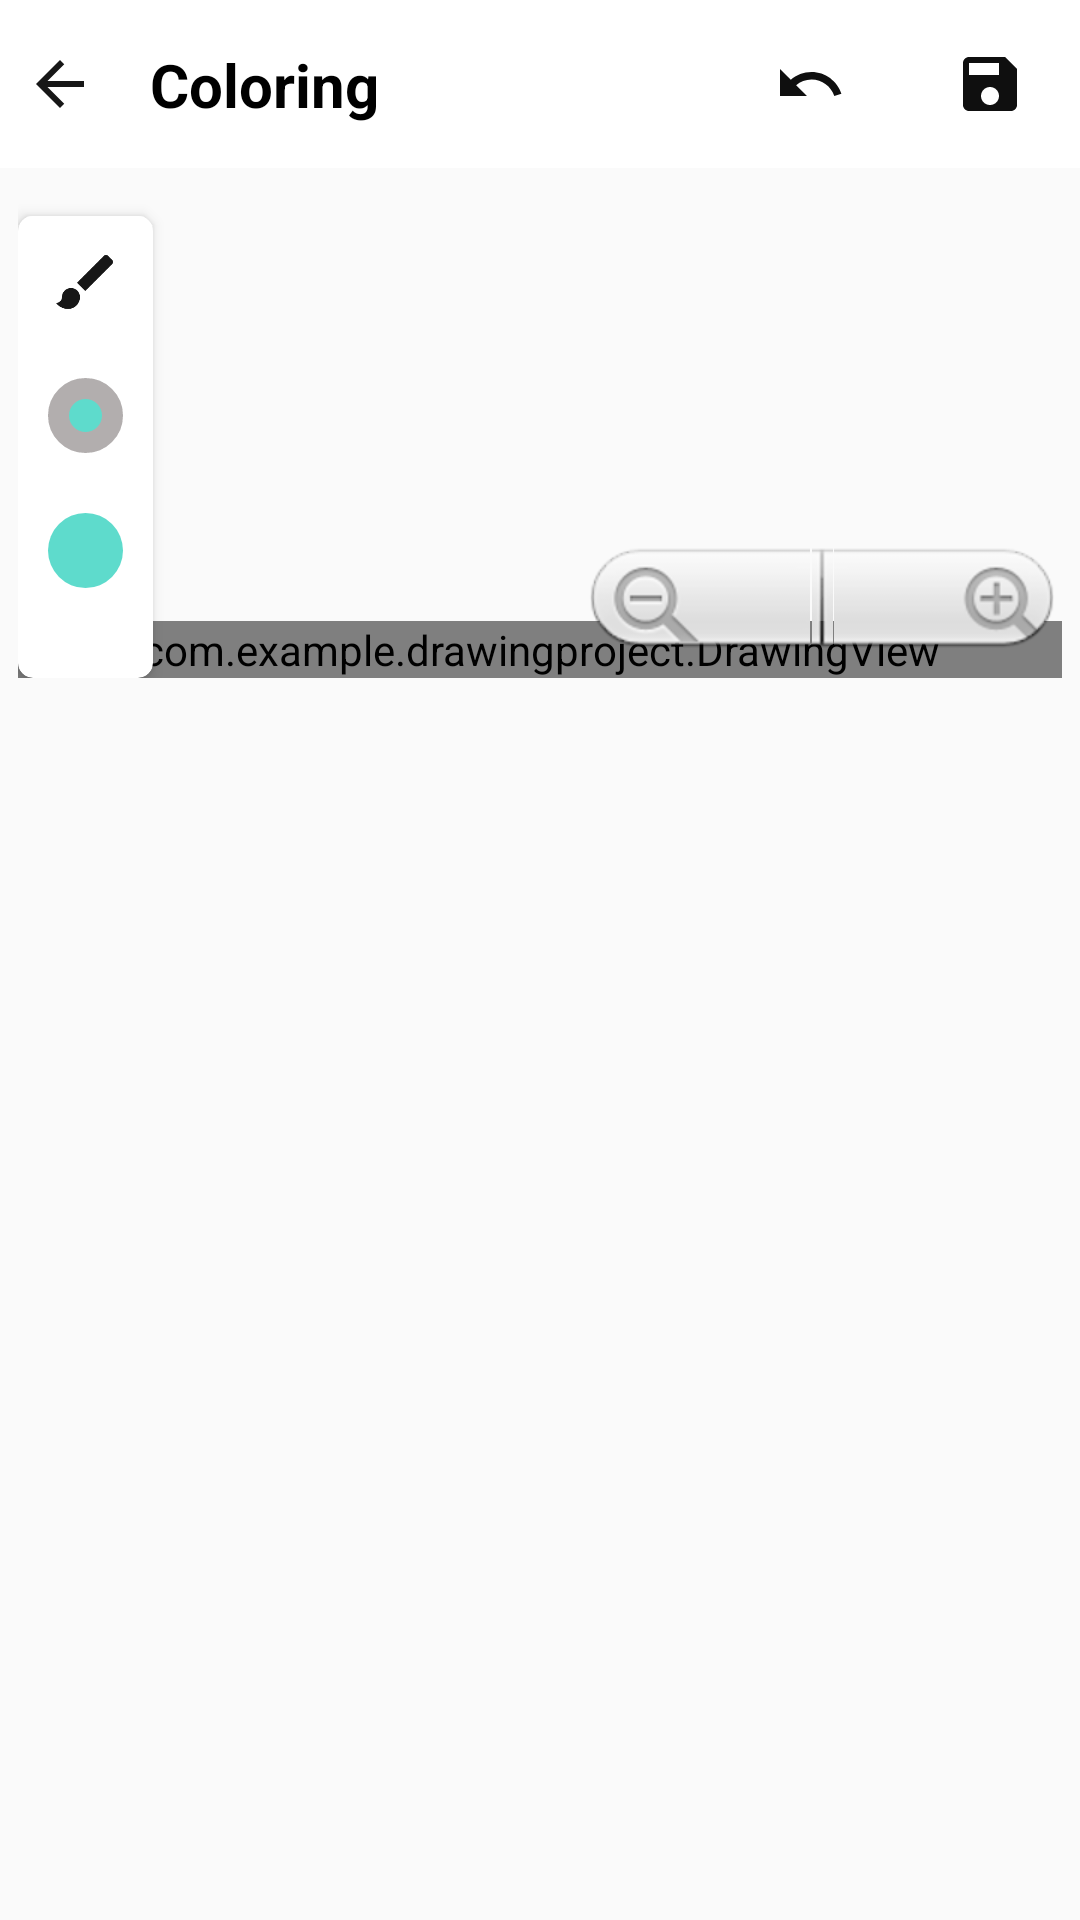

Named icons in this screenshot (1080×1920) and their centers, (x,y):
arrow back: (60,84)
brushsize: (85,415)
save: (990,84)
